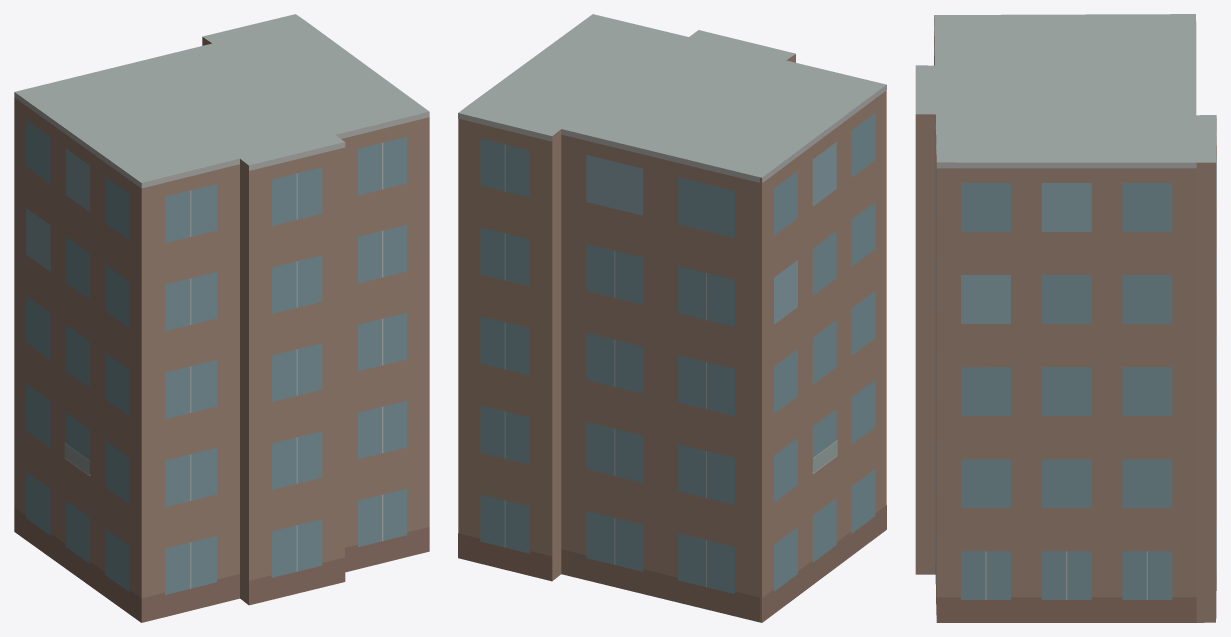
Rendered from survey-upis-32932916.glb.
3 views of the same model, side by side, from view 1: azimuth 30°, elevation 25°; view 2: azimuth 150°, elevation 25°; view 3: azimuth 270°, elevation 25° (orthographic). The views are drawn at different scales.
Visible parts, largest first — view 1: survey-upis-32932916.tmp; view 2: survey-upis-32932916.tmp; view 3: survey-upis-32932916.tmp.
Boxes of the visible parts, x1,y1,x2,y2 form: survey-upis-32932916.tmp: [14, 14, 429, 622]; survey-upis-32932916.tmp: [458, 14, 886, 622]; survey-upis-32932916.tmp: [915, 14, 1216, 622].
Bounding box in the file's own units: 13.64 × 19.66 × 11.67.
